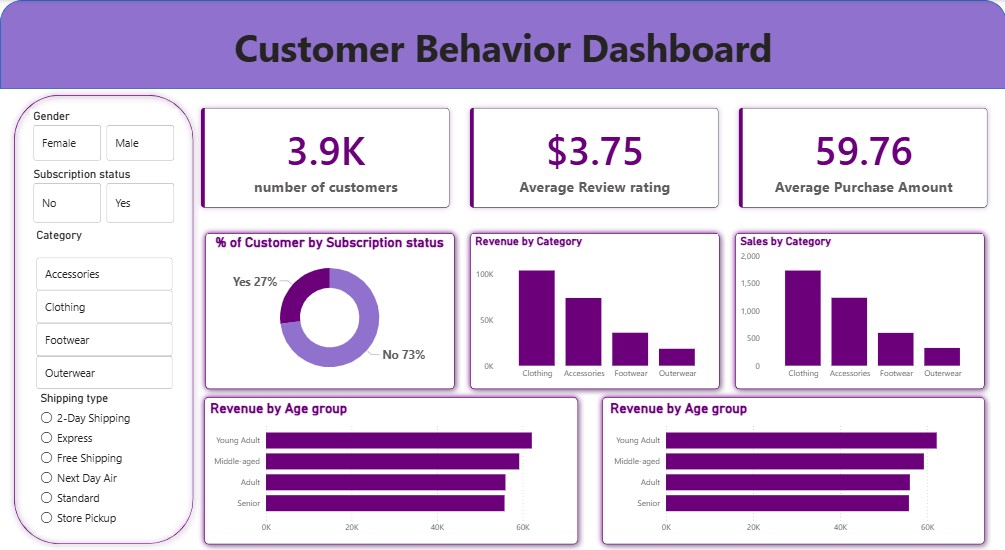

Layout of this report page (visuals, bound fields, positions):
{"tool":"powerbi","page":{"name":"Page 1","canvas":[1500,820],"ordinal":0},"visuals":[{"type":"cardVisual","fields":{"Data":["customer.number of customers","customer.Average Review rating","customer.Average Purchase Amount"]},"box":[270.6,132.8,1230,205],"z":0},{"type":"shape","box":[0,0,1500.6,132.8],"z":1000},{"type":"textbox","box":[0,26.2,1500.6,88.6],"z":2000},{"type":"shape","box":[296.8,337.8,390.3,250.9],"z":3000},{"type":"shape","box":[1087.3,337.8,390.3,250.9],"z":4000},{"type":"shape","box":[692.1,337.8,390.3,250.9],"z":5000},{"type":"donutChart","title":"% of Customer by Subscription status","fields":{"Category":["customer.subscription_status"],"Y":["CountNonNull(customer.customer_id)"]},"box":[308.3,349.3,365.7,226.3],"z":6000},{"type":"clusteredColumnChart","title":"Revenue by Category","fields":{"Y":["Sum(customer.purchase_amount)"],"Category":["customer.category"]},"box":[703.6,349.3,367.4,226.3],"z":7000},{"type":"clusteredColumnChart","title":"Sales by Category","fields":{"Y":["CountNonNull(customer.purchase_amount)"],"Category":["customer.category"]},"box":[1098.8,349.3,367.4,226.3],"z":8000},{"type":"shape","box":[11.5,132.8,285.4,687.2],"z":9000},{"type":"advancedSlicerVisual","fields":{"Values":["customer.gender"]},"box":[44.3,162.4,221.4,82],"z":10000},{"type":"advancedSlicerVisual","fields":{"Values":["customer.subscription_status"]},"box":[44.3,249.3,221.4,88.6],"z":11000},{"type":"advancedSlicerVisual","fields":{"Values":["customer.category"]},"box":[49.2,339.5,213.2,267.3],"z":12000},{"type":"listSlicer","fields":{"Values":["customer.shipping_type"]},"box":[55.8,582.2,201.7,214.8],"z":13000},{"type":"shape","box":[295.2,582.2,575.6,237.8],"z":14000},{"type":"shape","box":[888.9,582.2,588.8,237.8],"z":15000},{"type":"clusteredBarChart","title":"Revenue by Age group","fields":{"Category":["customer.age_group"],"Y":["Sum(customer.purchase_amount)"]},"box":[308.3,597,549.4,208.3],"z":15001},{"type":"clusteredBarChart","title":"Revenue by Age group","fields":{"Category":["customer.age_group"],"Y":["Sum(customer.purchase_amount)"]},"box":[905.3,597,557.6,208.3],"z":15002}]}

Visuals, with their boxes in screenshot pixels (x1, y1, x2, y2), scaled from the page's 1500x820 canvas onto the 1005x550 screenshot:
cardVisual - customer.number of customers x customer.Average Review rating: BBox(181, 89, 1004, 227)
shape: BBox(0, 0, 1004, 89)
textbox: BBox(0, 18, 1004, 77)
shape: BBox(199, 227, 460, 395)
shape: BBox(728, 227, 990, 395)
shape: BBox(464, 227, 725, 395)
"% of Customer by Subscription status" donutChart: BBox(207, 234, 452, 386)
"Revenue by Category" clusteredColumnChart: BBox(471, 234, 718, 386)
"Sales by Category" clusteredColumnChart: BBox(736, 234, 982, 386)
shape: BBox(8, 89, 199, 549)
advancedSlicerVisual - customer.gender: BBox(30, 109, 178, 164)
advancedSlicerVisual - customer.subscription_status: BBox(30, 167, 178, 227)
advancedSlicerVisual - customer.category: BBox(33, 228, 176, 407)
listSlicer - customer.shipping_type: BBox(37, 391, 173, 535)
shape: BBox(198, 391, 583, 549)
shape: BBox(596, 391, 990, 549)
"Revenue by Age group" clusteredBarChart: BBox(207, 400, 575, 540)
"Revenue by Age group" clusteredBarChart: BBox(607, 400, 980, 540)
